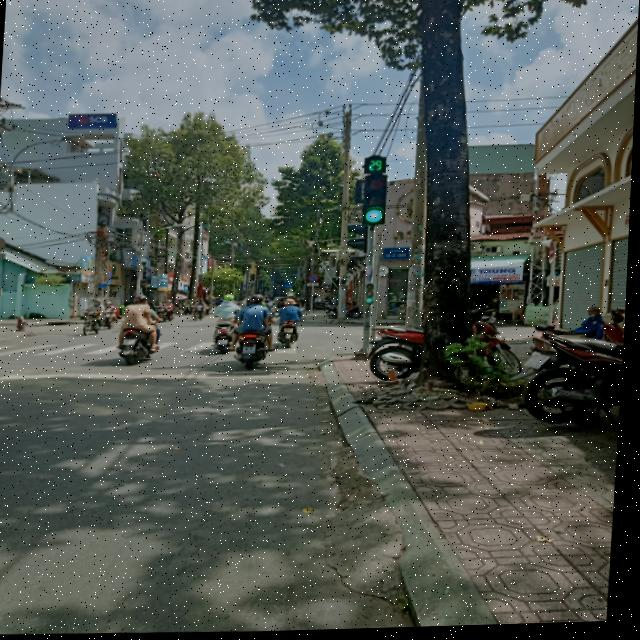Green: (359, 176, 398, 232), (358, 280, 386, 308)
